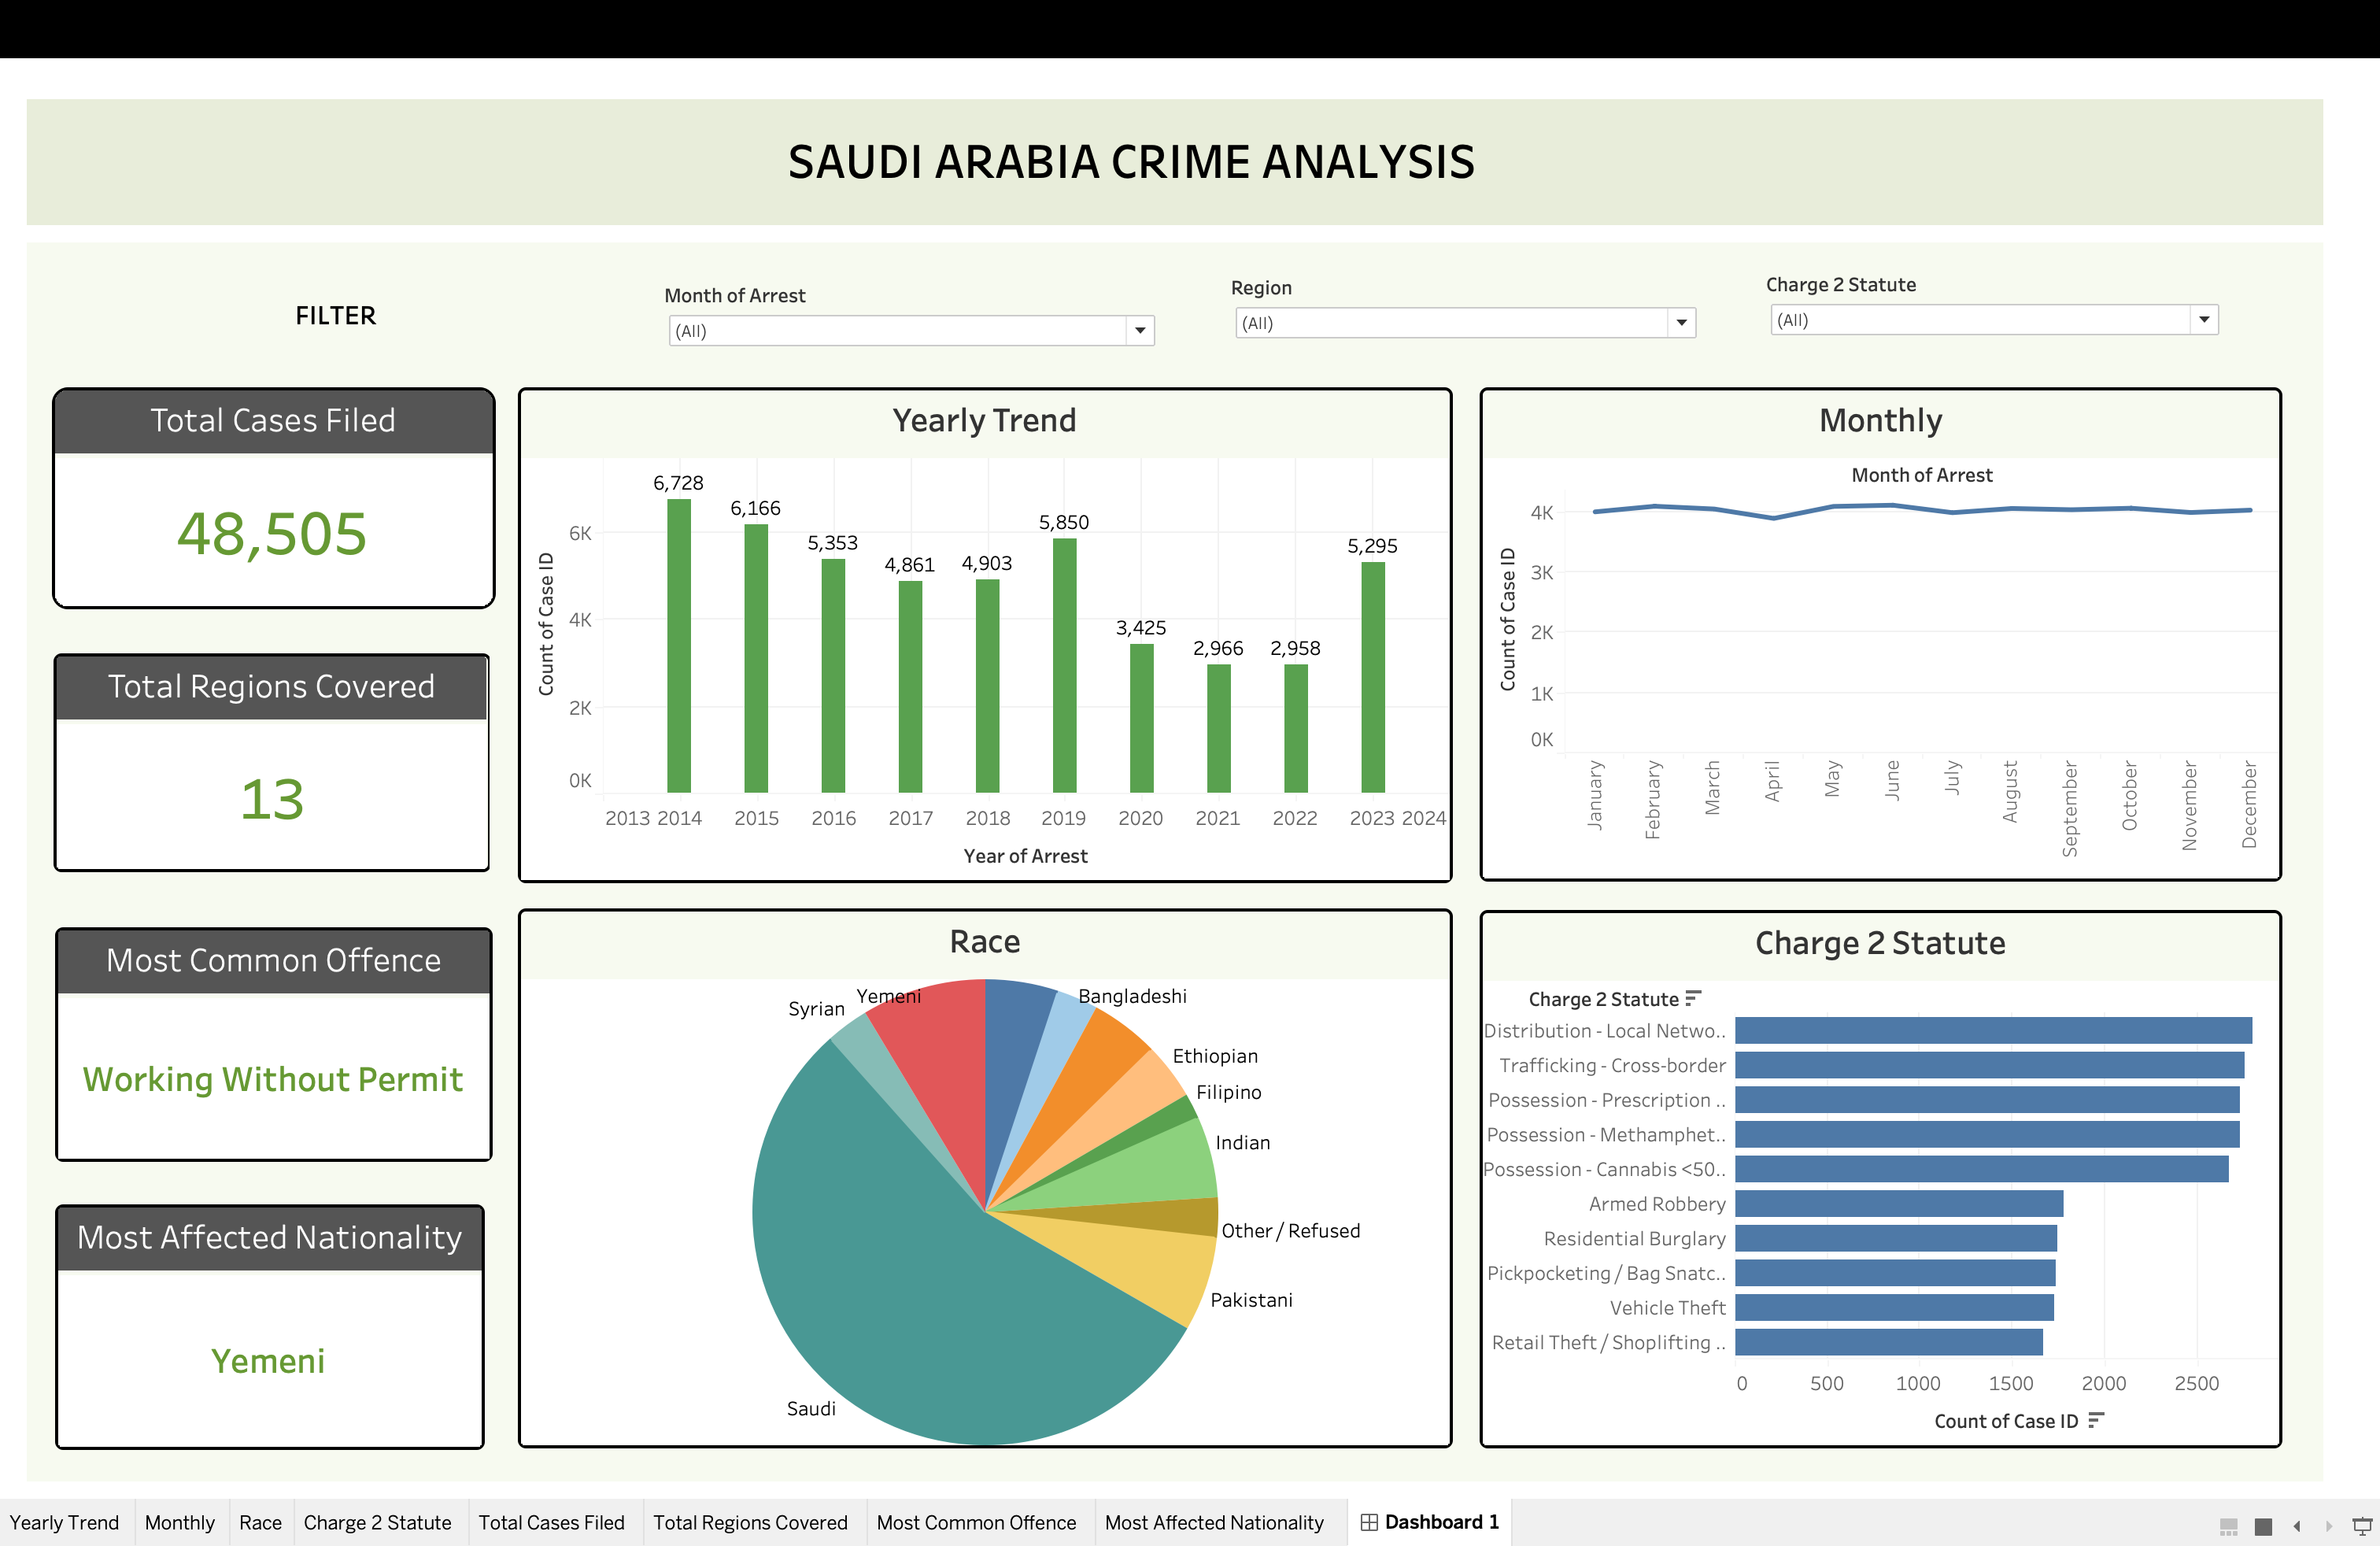

Layout of this report page (visuals, bound fields, positions):
{"tool":"tableau","page":{"name":"Dashboard 1","canvas":[1000,1000],"units":"permille","ordinal":0},"visuals":[{"type":"text","box":[239.1,39.9,474.2,62.1]},{"type":"filter","title":"Charge 2 Statute","param":"[federated.1emhz0r18krewd1brli4z183tnc8].[none:Charge_2_Statute:nk]","box":[741.7,147.7,192.2,62.1]},{"type":"filter","title":"Race","param":"[federated.1emhz0r18krewd1brli4z183tnc8].[none:Region:nk]","box":[517.3,150.1,197.5,51.6]},{"type":"filter","title":"Yearly Trend","param":"[federated.1emhz0r18krewd1brli4z183tnc8].[none:Month_of_Arrest:nk]","box":[279,154.8,208.3,51.6]},{"type":"text","box":[122.2,160.6,76.9,35.2]},{"type":"worksheet","title":"Total Cases Filed","mark":"Automatic","box":[21.5,228.6,186.8,153.6]},{"type":"worksheet","title":"Yearly Trend","mark":"Bar","rows":["Case_ID"],"cols":["Year_of_Arrest"],"box":[217.5,228.6,392.8,344.7]},{"type":"worksheet","title":"Monthly","mark":"Line","rows":["Case_ID"],"cols":["Month_of_Arrest"],"box":[621.8,228.6,337.4,343.5]},{"type":"worksheet","title":"Total Regions Covered","mark":"Automatic","box":[22.3,412.7,183.7,152.4]},{"type":"worksheet","title":"Race","mark":"Pie","box":[217.5,589.7,392.8,375.2]},{"type":"worksheet","title":"Charge 2 Statute","mark":"Bar","rows":["Charge_2_Statute"],"cols":["Case_ID"],"box":[621.8,590.9,337.4,374]},{"type":"worksheet","title":"Most Common Offence","mark":"Automatic","box":[23.1,603.8,183.7,163]},{"type":"worksheet","title":"Most Affected Nationality","mark":"Automatic","box":[23.1,796,180.6,170]}]}

Visuals, with their boxes on the dashboard's canvas, which has no fixed pixel size, in thousandths of its width and height (x1, y1, x2, y2). These are canvas units, not pixel positions in the 2380x1546 screenshot, which may show the page scaled, cropped or inside an application window:
text: 239,40,713,102
"Charge 2 Statute" filter: 742,148,934,210
"Race" filter: 517,150,715,202
"Yearly Trend" filter: 279,155,487,206
text: 122,161,199,196
"Total Cases Filed" worksheet: 22,229,208,382
"Yearly Trend" worksheet (Bar marks): 218,229,610,573
"Monthly" worksheet (Line marks): 622,229,959,572
"Total Regions Covered" worksheet: 22,413,206,565
"Race" worksheet (Pie marks): 218,590,610,965
"Charge 2 Statute" worksheet (Bar marks): 622,591,959,965
"Most Common Offence" worksheet: 23,604,207,767
"Most Affected Nationality" worksheet: 23,796,204,966
